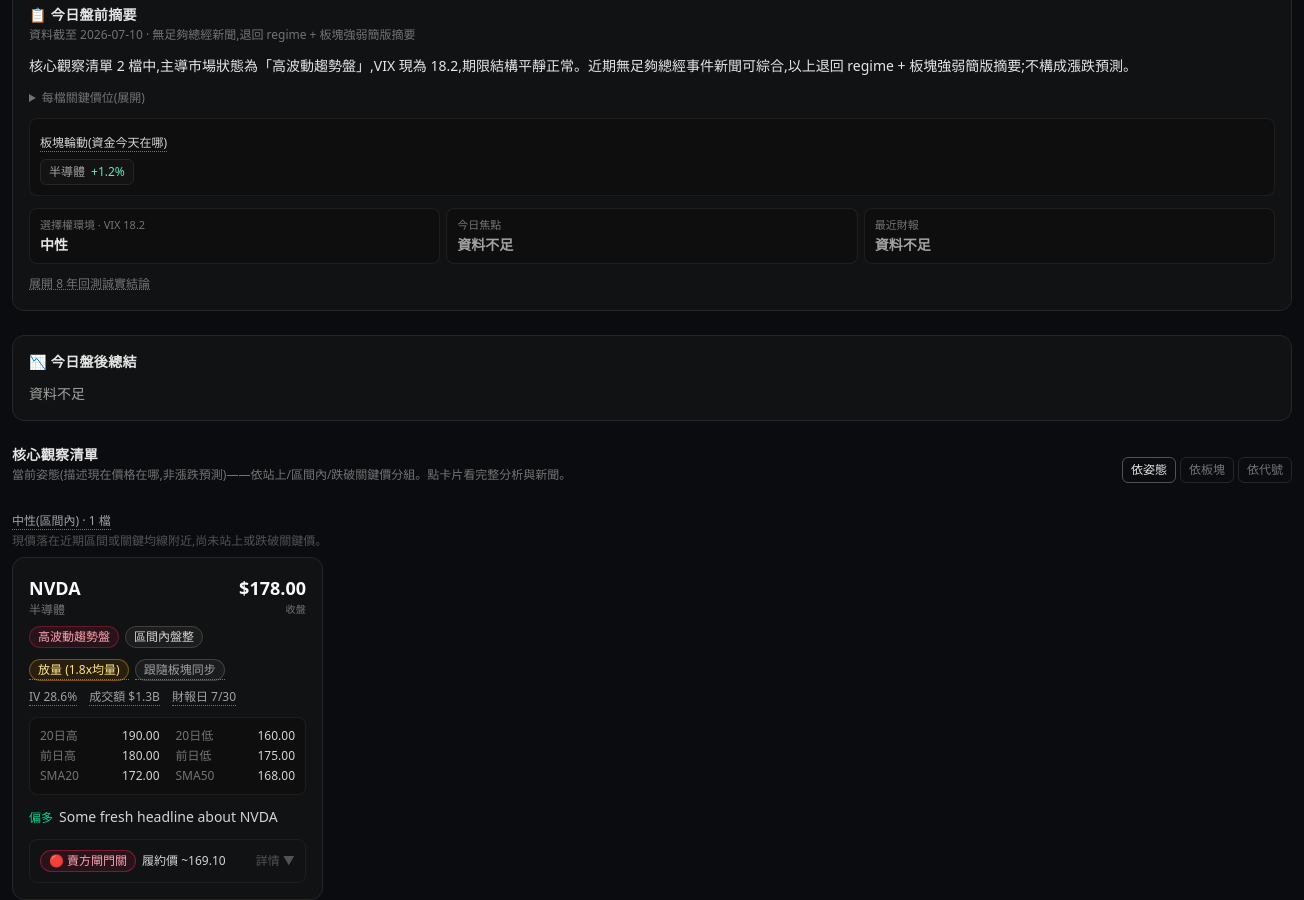
Test case: Opportunities › collapses the sell-put box to a one-line summary by default and expands the reason on click
(page scrolled)
Expected: the text "🔴 賣方閘門關" is shown, [40,850,136,872]
Expected: the text "閘門建議空手" is not shown
What coordinates should you click on to do the following:
click the text "詳情 ▼"
I would click on:
 (275, 861)
Its box is [256,853,295,869].
(page scrolled)
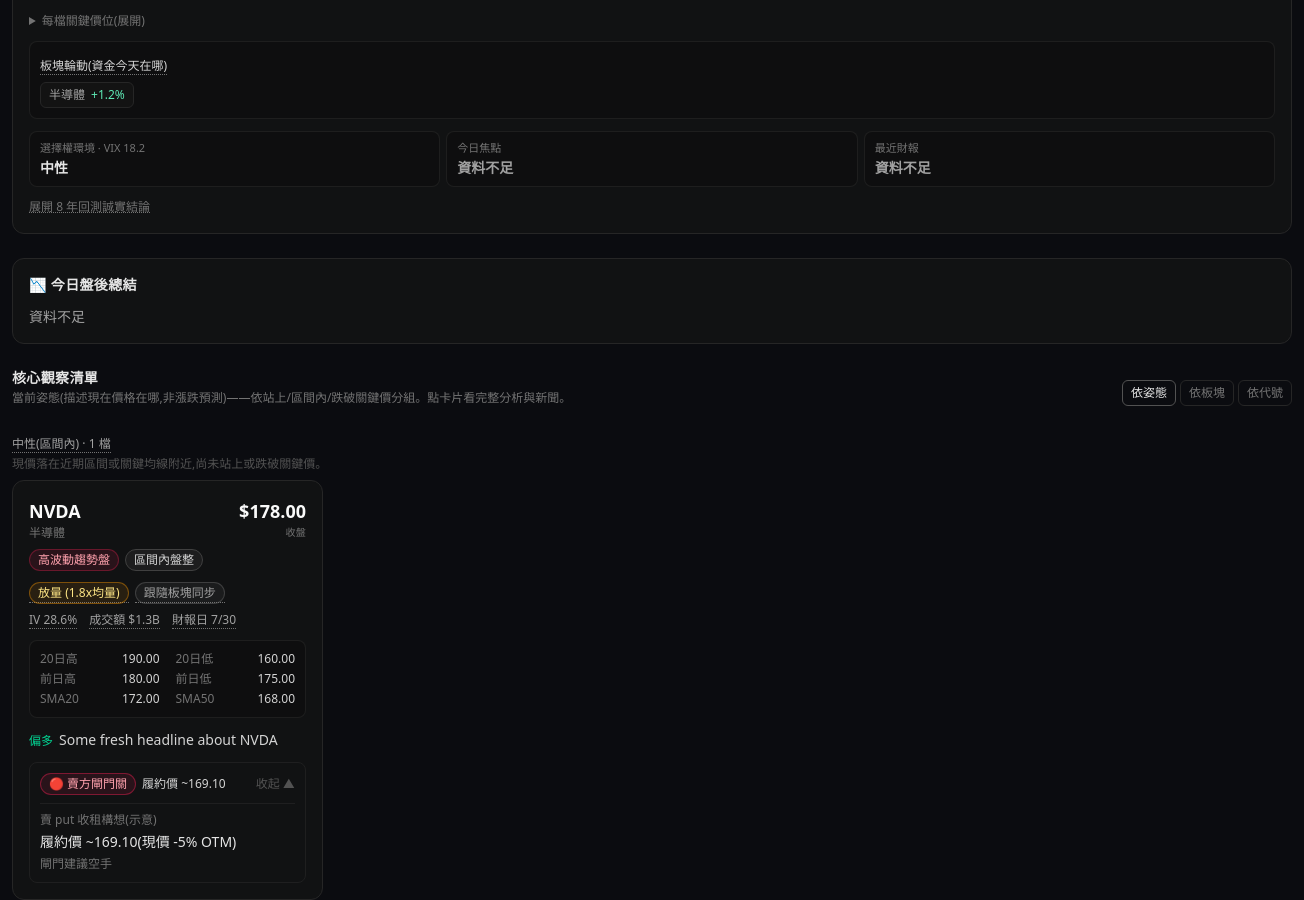
Result: the text "閘門建議空手" is shown at [40,855,112,872]
